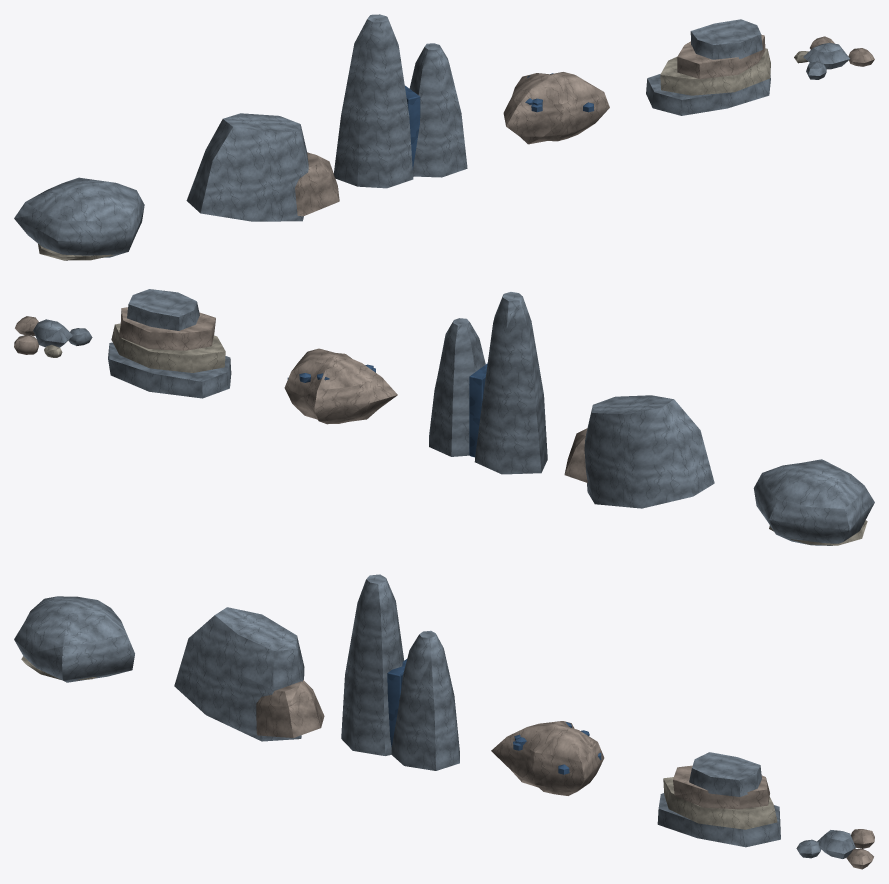
3 renders of one model, top to bottom at view 1: azimuth 30°, elevation 25°; view 2: azimuth 150°, elevation 25°; view 3: azimuth 330°, elevation 25°, orthographic. The views are drawn at different scales.
Parts seen in each view (by area): view 1: DL008_SeafloorRockKit_stone_blue, DL008_SeafloorRockKit_stone_warm, DL008_SeafloorRockKit_sediment, DL008_SeafloorRockKit_shadow_blue; view 2: DL008_SeafloorRockKit_stone_blue, DL008_SeafloorRockKit_stone_warm, DL008_SeafloorRockKit_sediment, DL008_SeafloorRockKit_shadow_blue; view 3: DL008_SeafloorRockKit_stone_blue, DL008_SeafloorRockKit_stone_warm, DL008_SeafloorRockKit_sediment, DL008_SeafloorRockKit_shadow_blue.
Part boxes in pixels (x1,y1,x2,y2): DL008_SeafloorRockKit_stone_blue: (14, 14, 849, 257); DL008_SeafloorRockKit_stone_warm: (295, 34, 874, 216); DL008_SeafloorRockKit_sediment: (38, 48, 808, 260); DL008_SeafloorRockKit_shadow_blue: (404, 73, 593, 169); DL008_SeafloorRockKit_stone_blue: (33, 289, 874, 545); DL008_SeafloorRockKit_stone_warm: (14, 307, 587, 482); DL008_SeafloorRockKit_sediment: (44, 323, 867, 545); DL008_SeafloorRockKit_shadow_blue: (287, 363, 487, 457); DL008_SeafloorRockKit_stone_blue: (14, 574, 855, 858); DL008_SeafloorRockKit_stone_warm: (256, 680, 874, 869); DL008_SeafloorRockKit_sediment: (21, 656, 777, 829); DL008_SeafloorRockKit_shadow_blue: (387, 659, 601, 774).
Bounding box in the file's own units: 22.29 × 4.41 × 2.65.
Materials: 4 (4 with a texture image).
